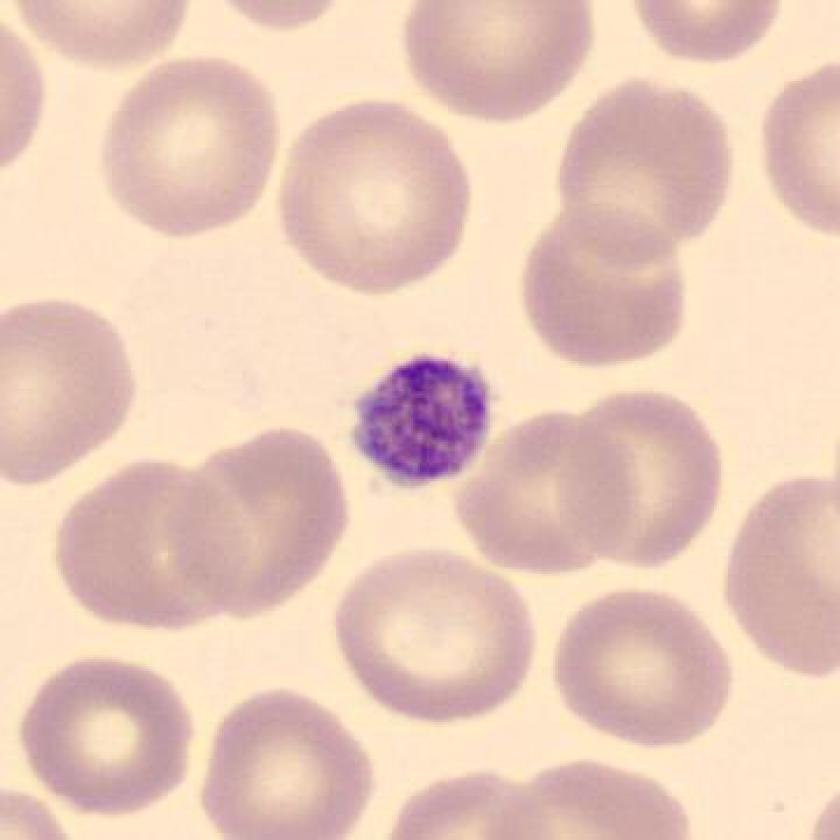platelets: (347, 353, 508, 489)
